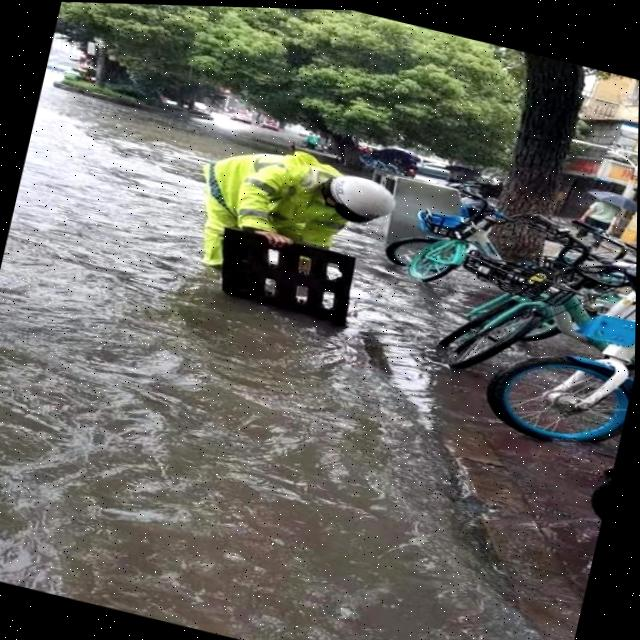rescuer: (161, 116, 405, 325)
